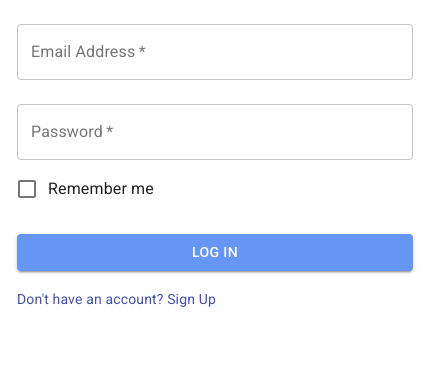
Scenario: sign in form behavior › displays error message if the email and password is invalid
In the field with test id "email-field": (215, 52) x1=17 y1=24 x2=413 y2=80, type "johndoe@gmail.com"
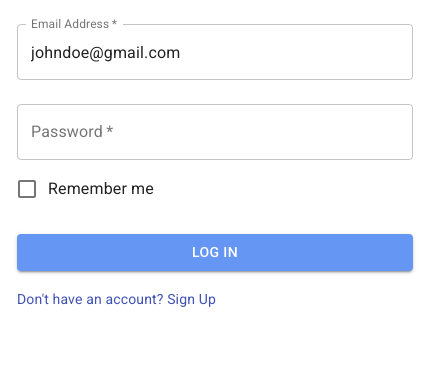
In the password field with test id "password-field": (215, 132) x1=17 y1=104 x2=413 y2=160, type "1234qwer"
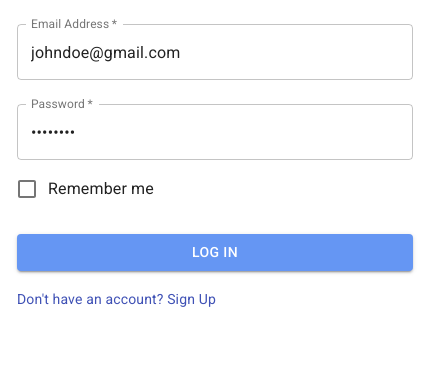
Click the button with test id "signin-btn": (215, 252) x1=17 y1=234 x2=413 y2=270
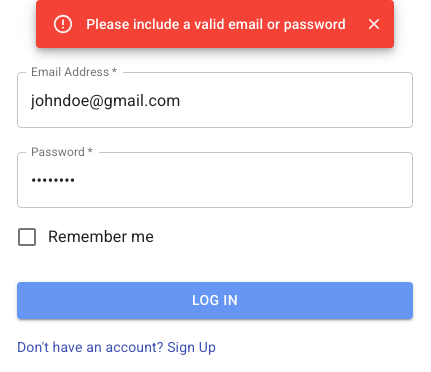
Result: the message with test id "alert" reads "Please include a valid email or password" at x1=86 y1=16 x2=346 y2=32
